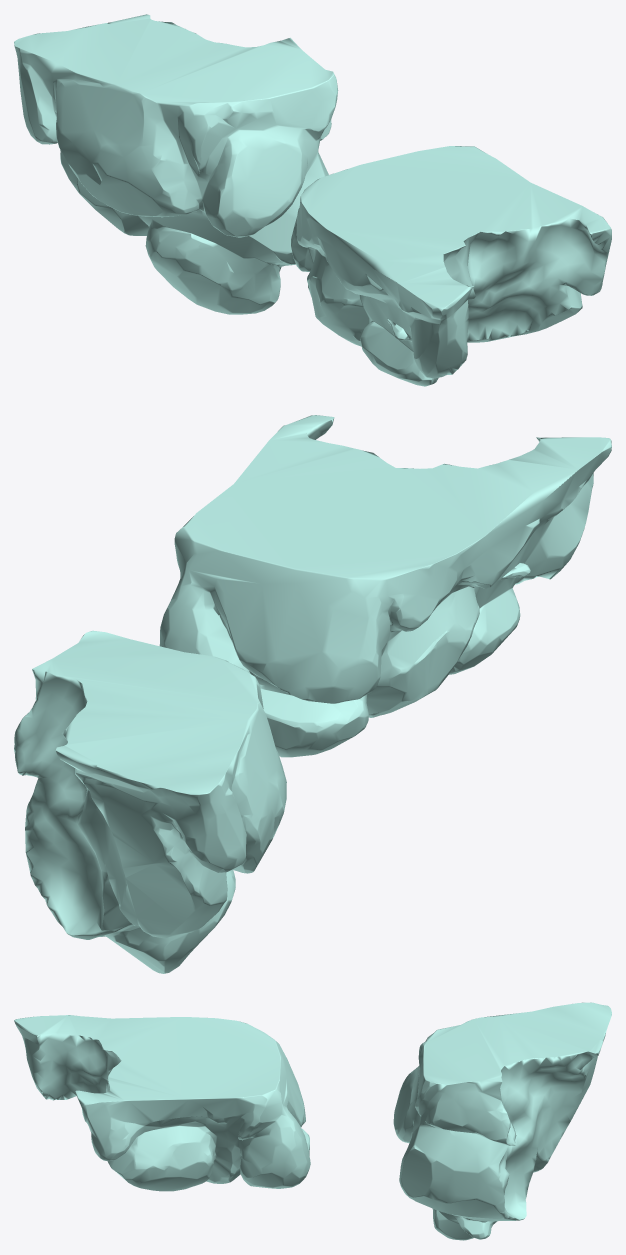
Rendered from island_7_LOD1.fbx.
3 renders of one model, top to bottom at view 1: azimuth 30°, elevation 25°; view 2: azimuth 150°, elevation 25°; view 3: azimuth 270°, elevation 25°, orthographic. The views are drawn at different scales.
Visible parts, largest first — view 1: island_7_LOD1; view 2: island_7_LOD1; view 3: island_7_LOD1.
Part boxes in pixels (bbox=[...]): island_7_LOD1: bbox=[14, 14, 611, 386]; island_7_LOD1: bbox=[14, 415, 611, 973]; island_7_LOD1: bbox=[14, 1002, 611, 1240].
Bounding box in the file's own units: 953 × 805 × 2320.
